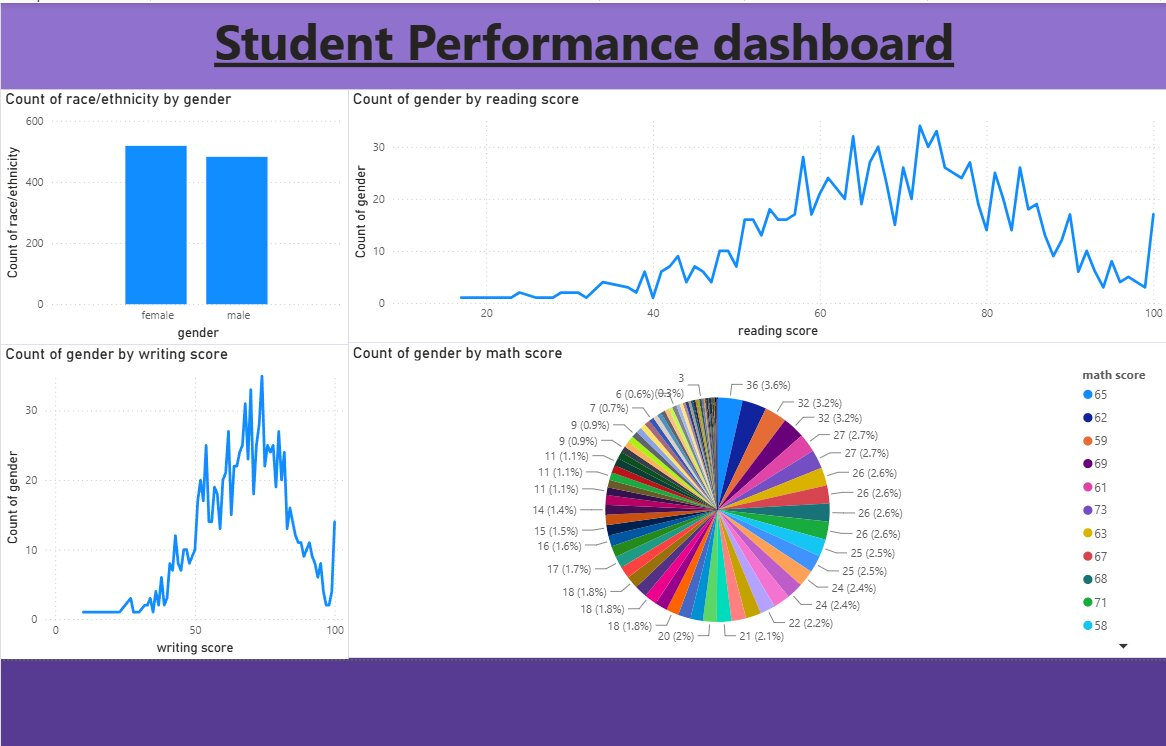

The page's visual inventory and layout, read from the dashboard file:
{"tool":"powerbi","page":{"name":"Page 1","canvas":[1280,720],"ordinal":0},"visuals":[{"type":"lineChart","fields":{"Y":["CountNonNull(StudentsPerformance NEW.gender)"],"Category":["StudentsPerformance NEW.writing score"]},"box":[0,374.3,381.4,345.7],"z":0},{"type":"textbox","box":[0,0,1280.3,94.7],"z":1},{"type":"columnChart","fields":{"Y":["CountNonNull(StudentsPerformance NEW.race/ethnicity)"],"Category":["StudentsPerformance NEW.gender"]},"box":[0,94.3,381.4,280],"z":2},{"type":"lineChart","fields":{"Category":["StudentsPerformance NEW.reading score"],"Y":["CountNonNull(StudentsPerformance NEW.gender)"]},"box":[381.2,94.7,898.8,278.6],"z":3},{"type":"pieChart","fields":{"Y":["CountNonNull(StudentsPerformance NEW.gender)"],"Category":["StudentsPerformance NEW.math score"]},"box":[381.4,372.9,898.6,345.7],"z":4}]}

Visuals, with their boxes on the page's 1280x720 design canvas (x1, y1, x2, y2). These are canvas units, not pixel positions in the 1166x746 screenshot, which may show the page scaled, cropped or inside an application window:
lineChart - CountNonNull(StudentsPerformance NEW.gender) x StudentsPerformance NEW.writing score: rect(0, 374, 381, 720)
textbox: rect(0, 0, 1280, 95)
columnChart - CountNonNull(StudentsPerformance NEW.race/ethnicity) x StudentsPerformance NEW.gender: rect(0, 94, 381, 374)
lineChart - StudentsPerformance NEW.reading score x CountNonNull(StudentsPerformance NEW.gender): rect(381, 95, 1280, 373)
pieChart - CountNonNull(StudentsPerformance NEW.gender) x StudentsPerformance NEW.math score: rect(381, 373, 1280, 719)
